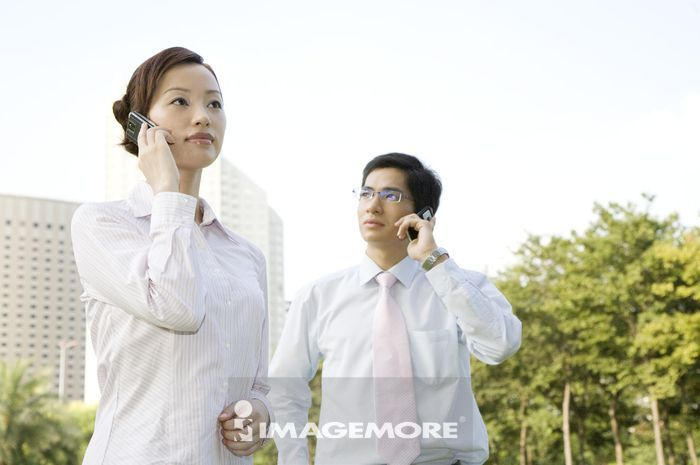phone: (126, 113, 162, 146)
talk: (121, 85, 227, 185), (358, 185, 434, 257)
